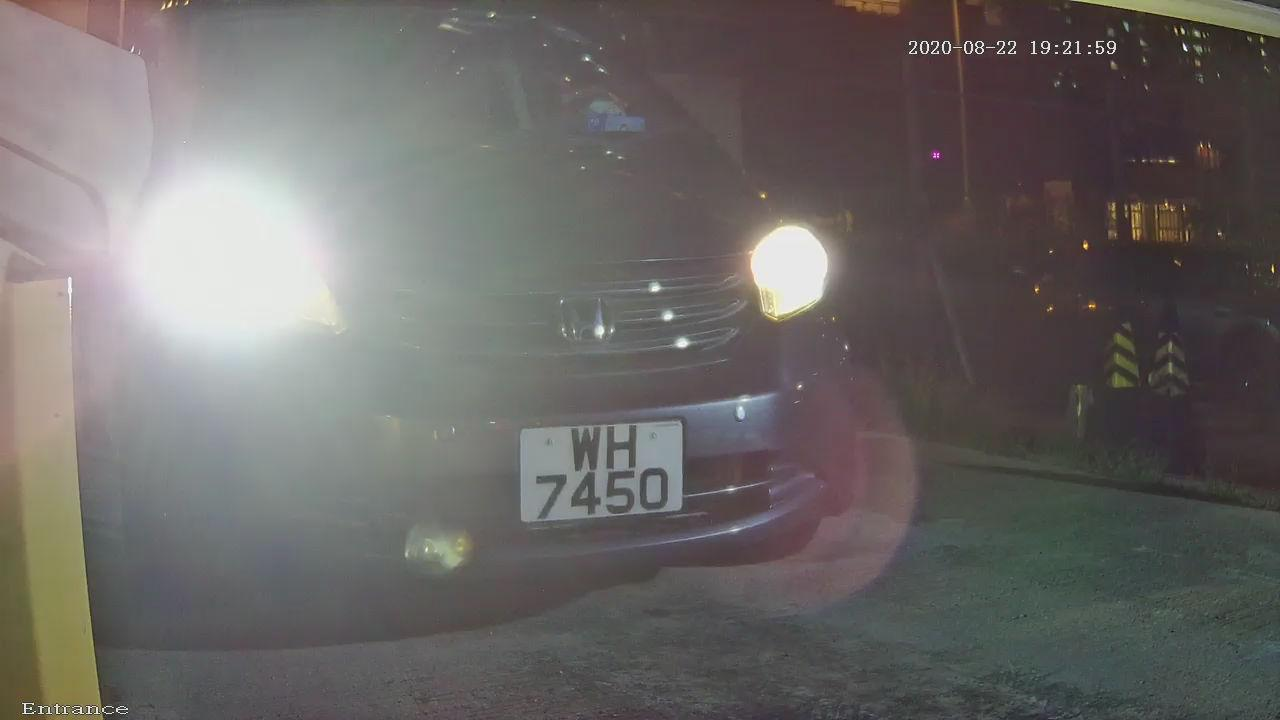License Plate: (492, 402, 709, 537)
